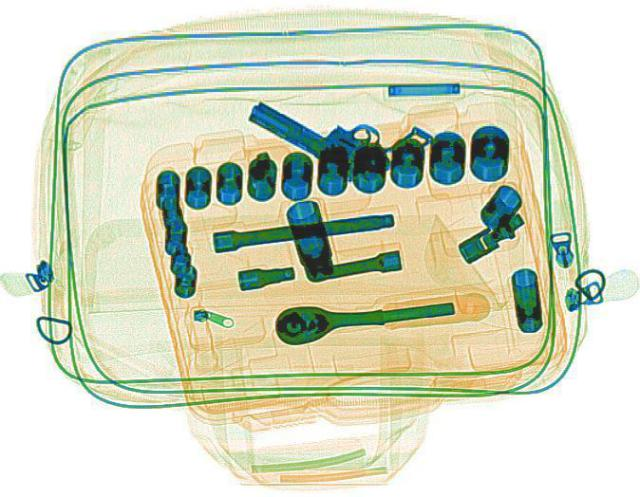Gun: (238, 62, 434, 188)
